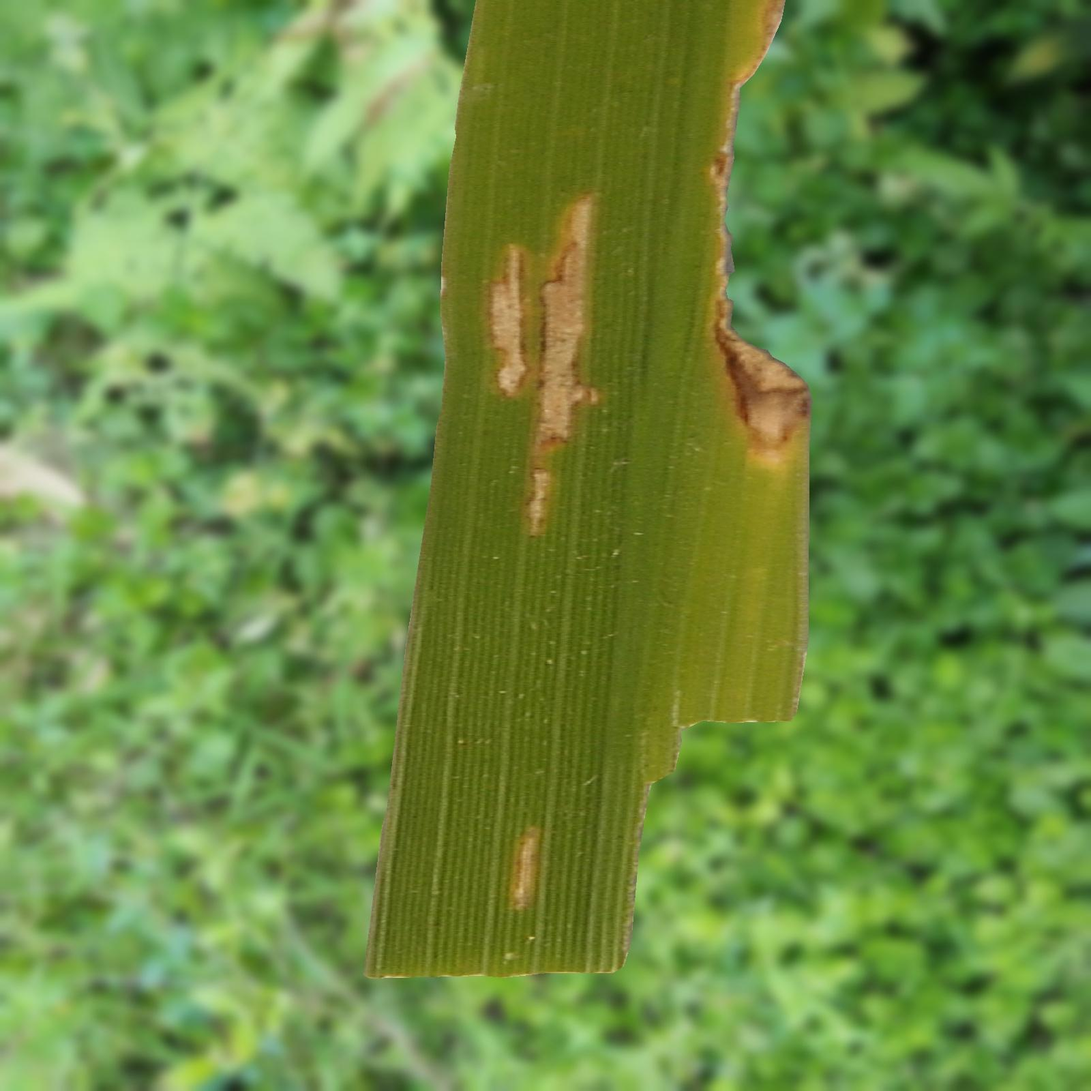BLS: (526, 194, 597, 535), (488, 244, 530, 398), (509, 828, 540, 910)
LEAF: (364, 0, 812, 978)
